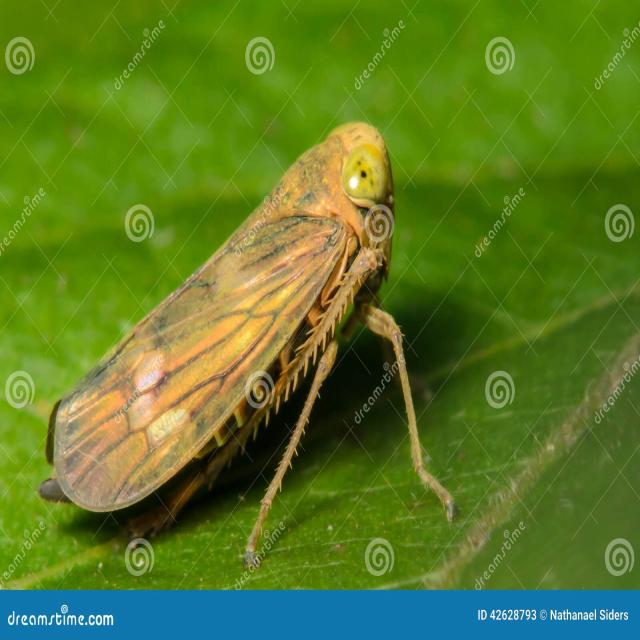Yechan: (37, 99, 448, 553)
